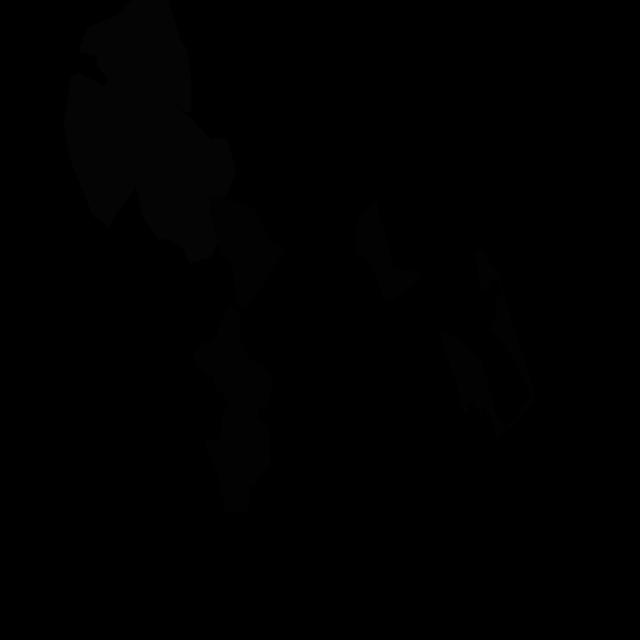cardboard: (442, 246, 538, 438), (192, 305, 272, 513), (210, 196, 287, 308), (355, 199, 420, 302)
soft_plastic: (64, 0, 191, 230), (132, 85, 236, 263)
